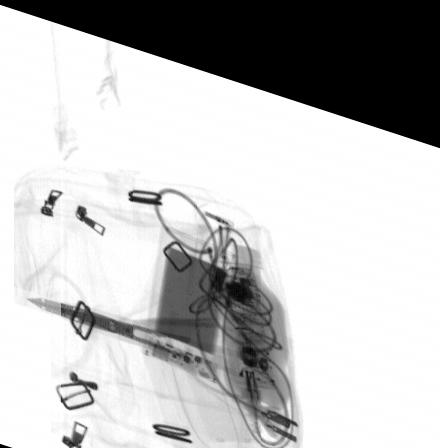Powerbank: (141, 210, 233, 370)
Scissors: (25, 294, 260, 384)
